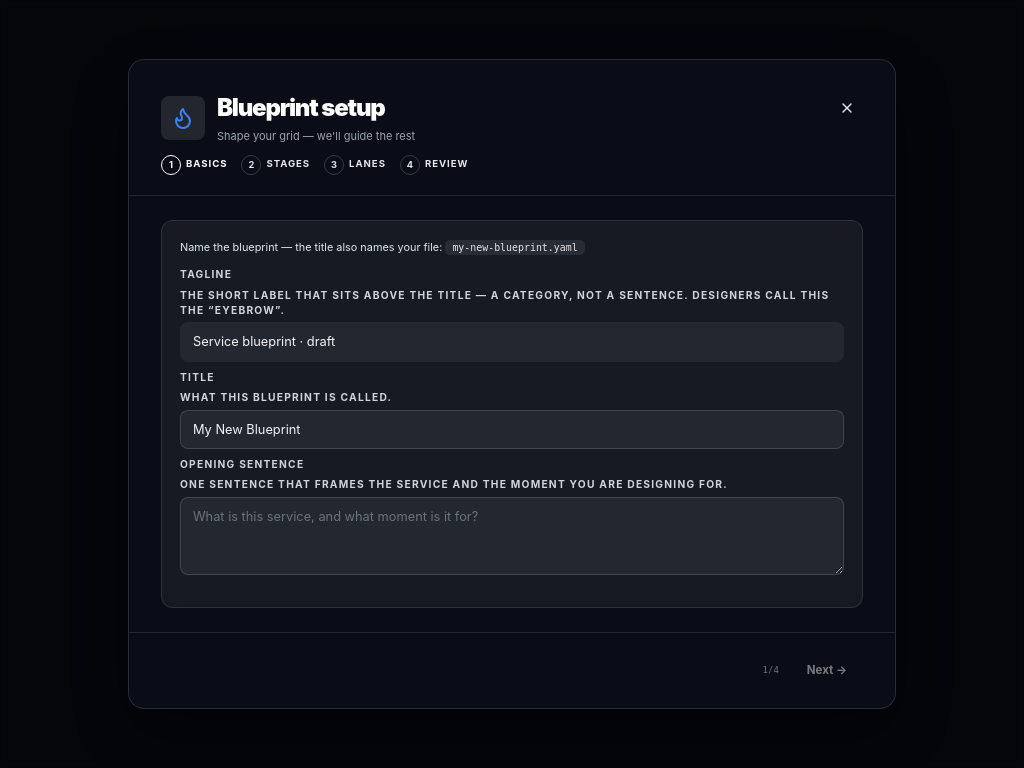
SetupWizardModal — the guided from-scratch flow › gates its own Next — an incomplete step refuses quietly
Check: the button with test id "wizard-next" is disabled, box x1=791 y1=653 x2=863 y2=688
Type "Now complete" into the text box named "Wizard opening sentence" at (512, 536), box x1=180 y1=497 x2=844 y2=575
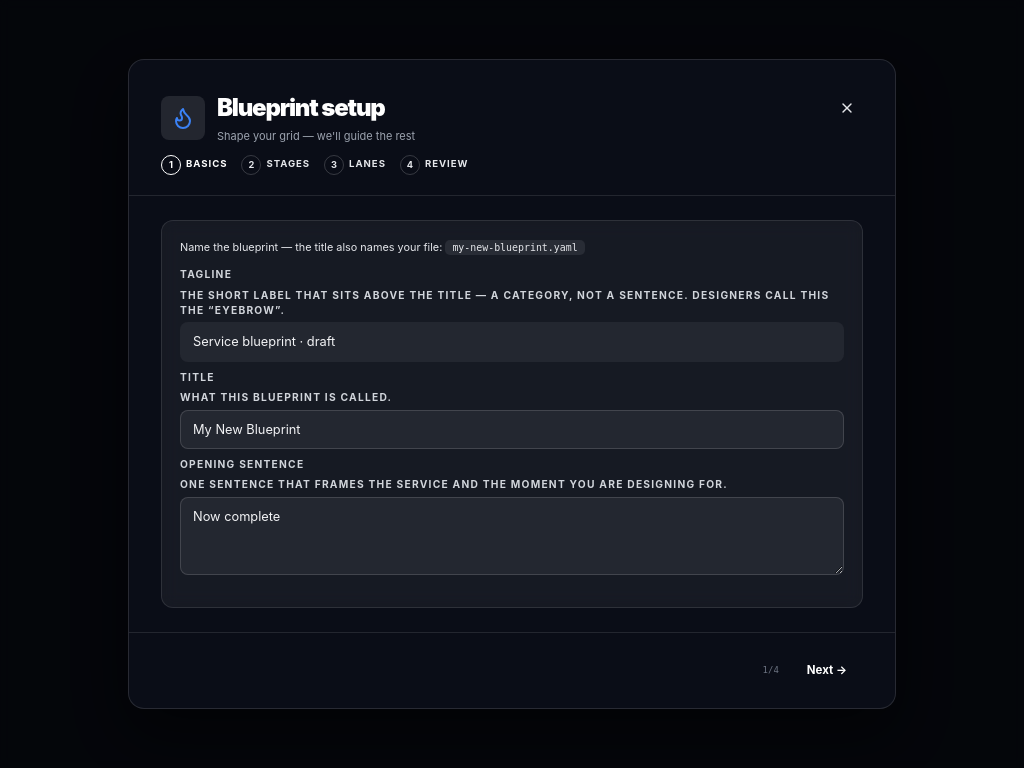
Check: the button with test id "wizard-next" is enabled, box x1=791 y1=653 x2=863 y2=688
